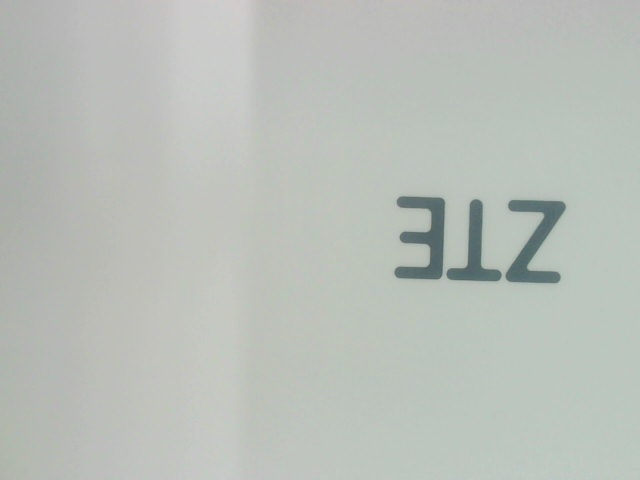AN_ZTELarge: (376, 181, 571, 295)
